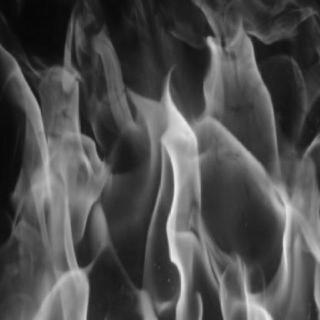Fire: (0, 2, 318, 318)
